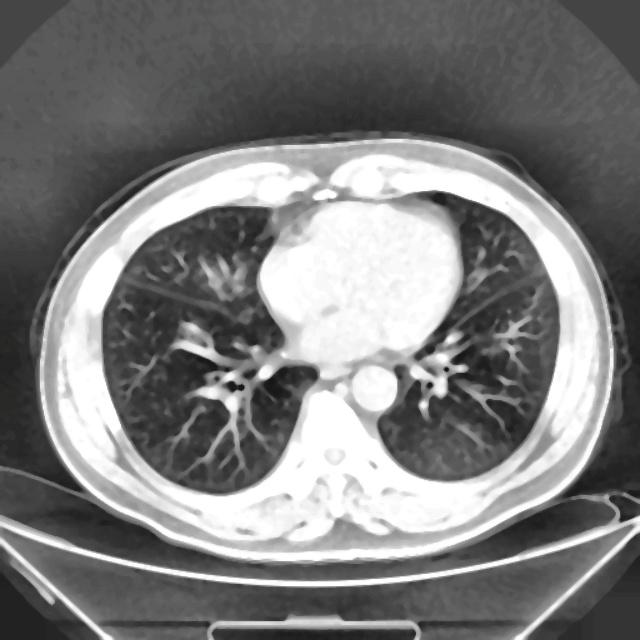covid: (33, 131, 626, 563)
